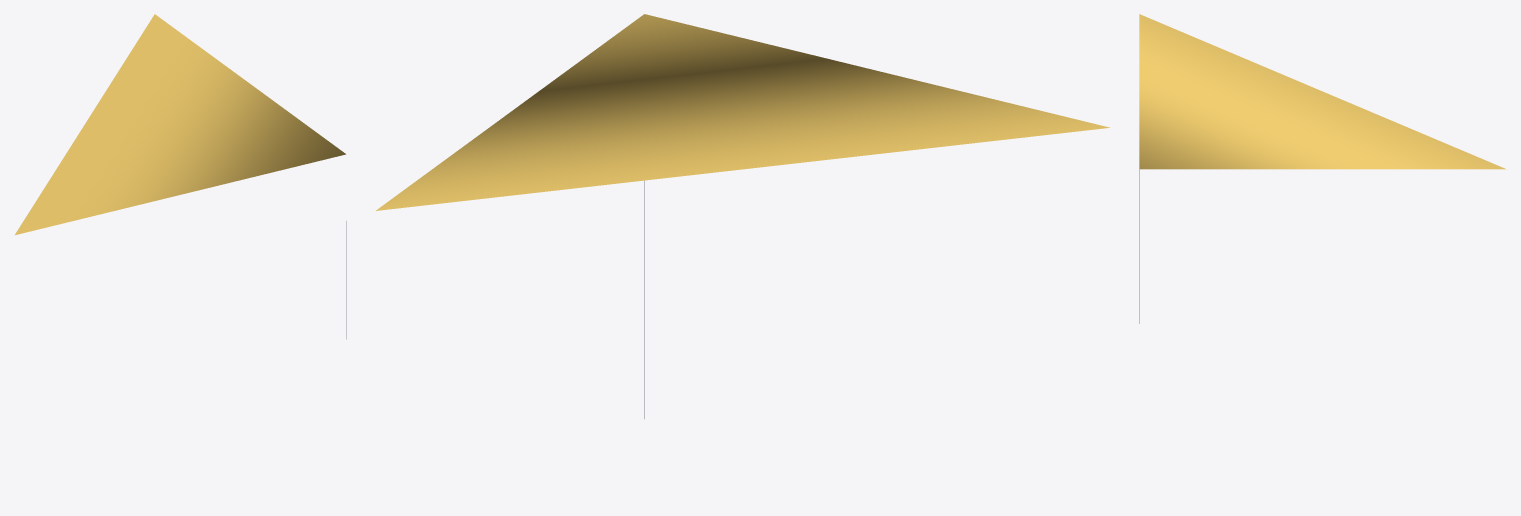
File: flywheel.glb
3 renders of one model, left to right at view 1: azimuth 30°, elevation 25°; view 2: azimuth 150°, elevation 25°; view 3: azimuth 270°, elevation 25°, orthographic. The views are drawn at different scales.
Parts seen in each view (by area): view 1: FlywheelHub; view 2: FlywheelHub; view 3: FlywheelHub.
Part boxes in pixels (x1,y1,x2,y2): FlywheelHub: (15, 14, 345, 234); FlywheelHub: (376, 14, 1109, 210); FlywheelHub: (1139, 14, 1506, 169).
Bounding box in the file's own units: 3.69e+19 × 3.69e+19 × 3.69e+19.
